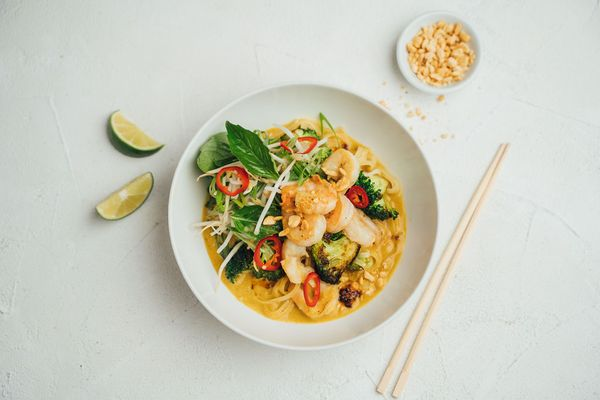curry: (356, 171, 392, 215), (357, 171, 388, 202)
salad: (374, 140, 511, 395)
steak: (95, 171, 154, 220)
sushi: (166, 83, 441, 351), (395, 11, 480, 95)
taco: (95, 171, 154, 220)
